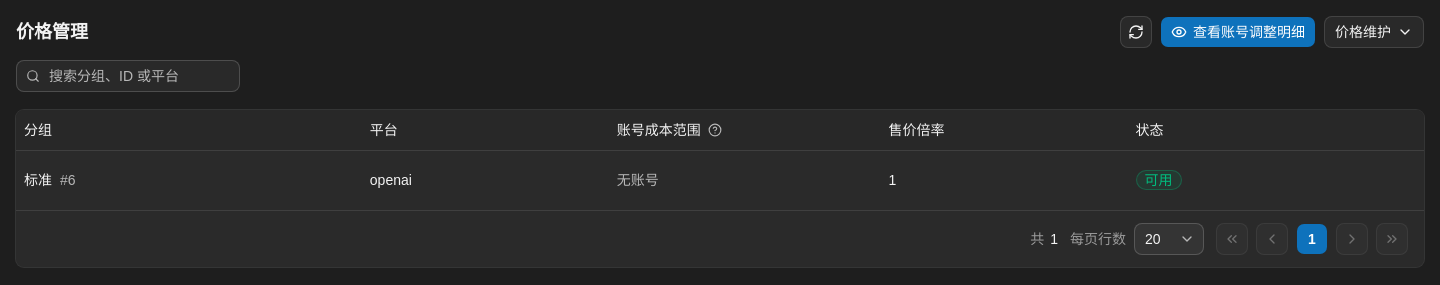
Test: 价格分组已加载时搜索栏位于页面滚动区之外，筛选后可恢复列表
Step 1. Type "找不到" into the field labelled "搜索分组、ID 或平台" → (128, 76), box [16,60,240,92]
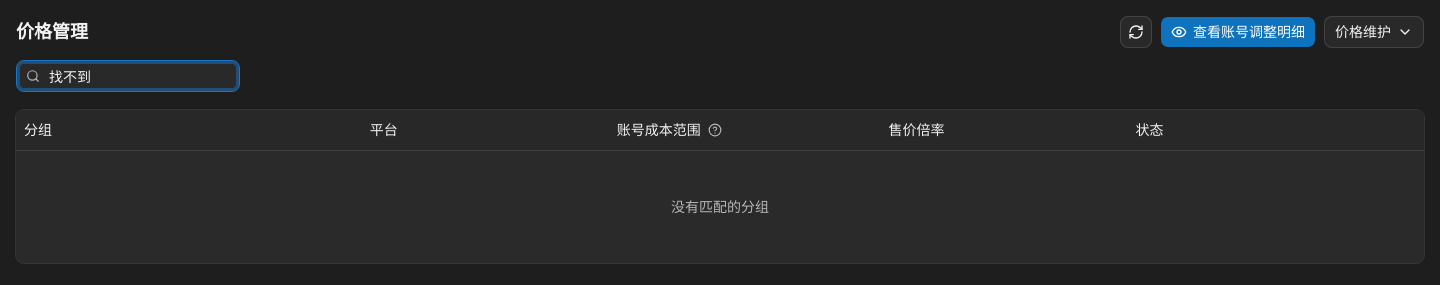
Expected: the text "没有匹配的分组" is shown, [671,198,769,214]
Step 2. Clear the field named "搜索分组、ID 或平台" → (128, 76), box [16,60,240,92]
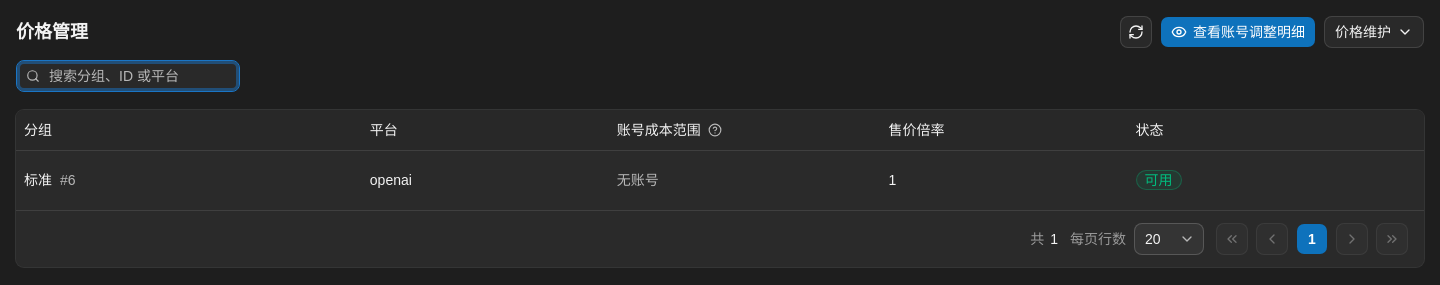
Expected: the cell named "标准 #6" is shown, [16,150,362,210]
